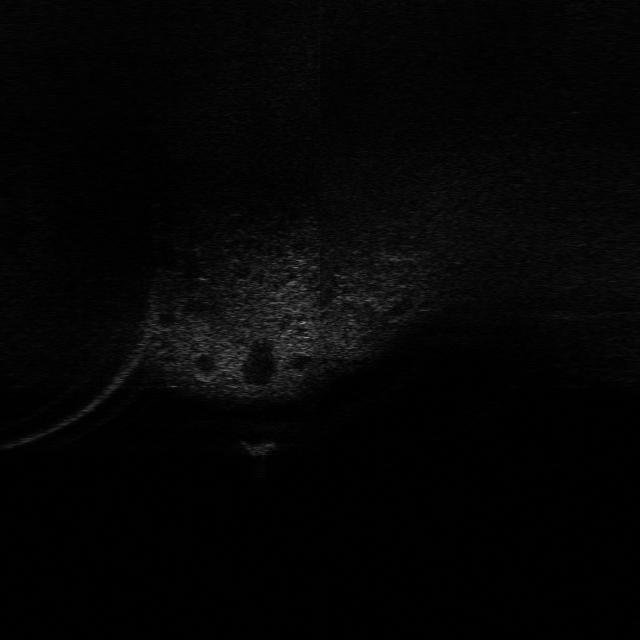cube: (236, 430, 284, 458)
